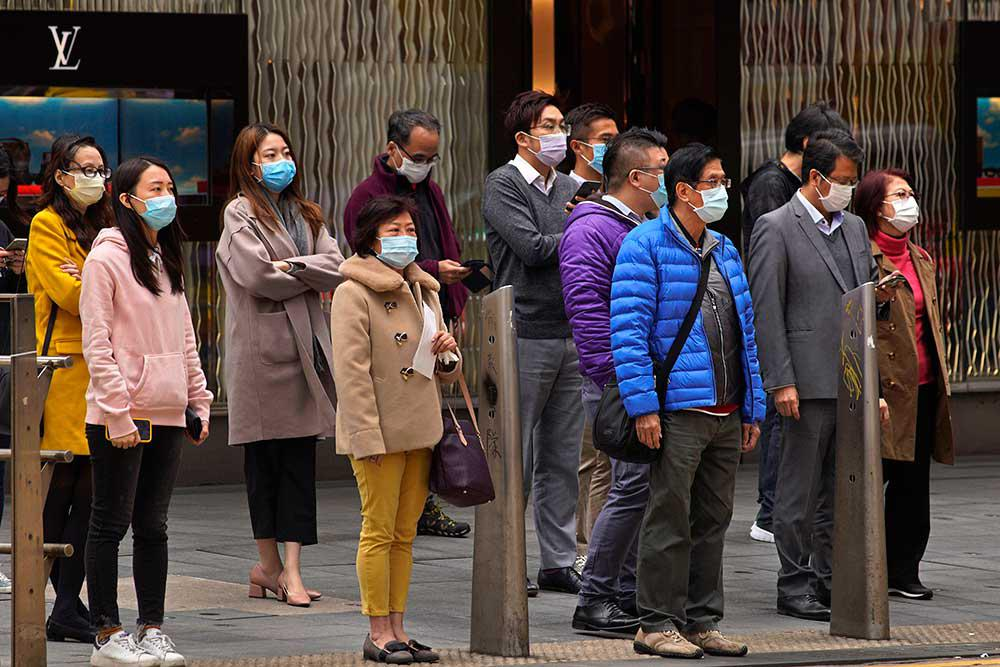mask: (256, 143, 298, 193), (138, 178, 178, 230), (67, 158, 108, 208), (693, 170, 730, 225), (378, 220, 420, 268), (531, 116, 570, 167), (819, 172, 858, 214), (884, 187, 921, 231), (396, 148, 437, 184), (644, 156, 668, 208)
